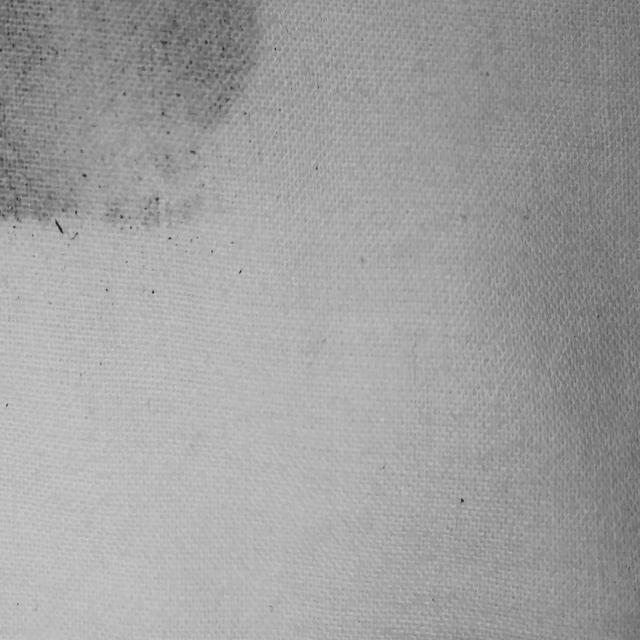Stain: (0, 1, 262, 224)
